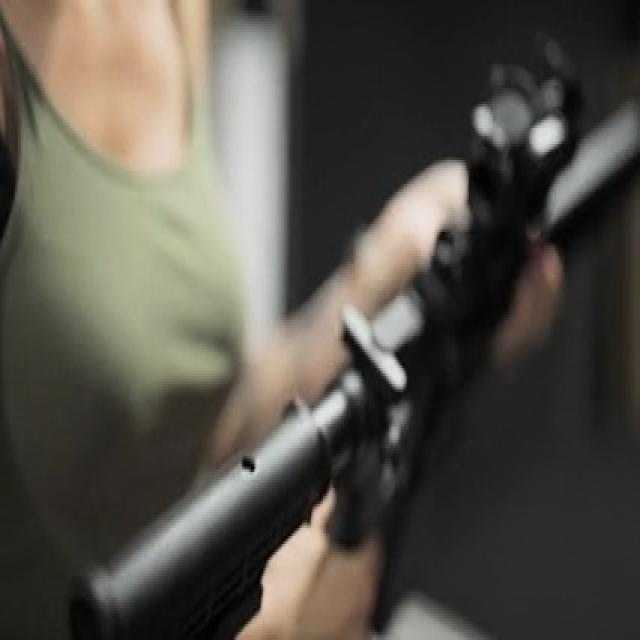Gun_Holder: (67, 4, 635, 640)
